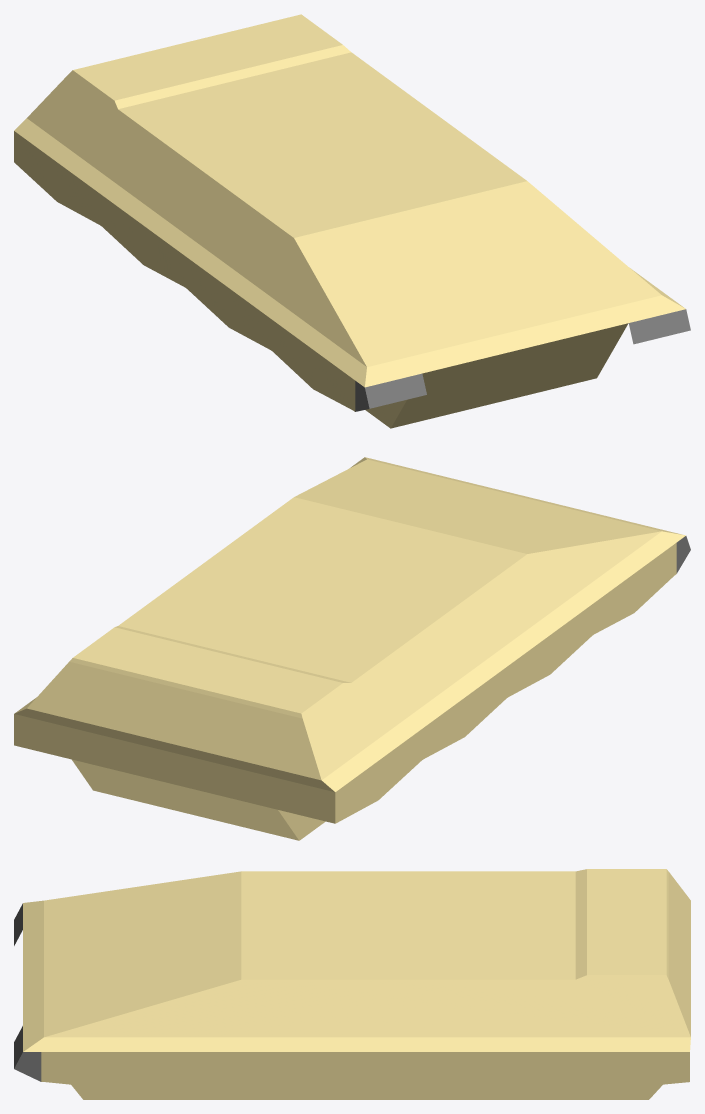
3 views of the same model, one above another, from view 1: azimuth 30°, elevation 25°; view 2: azimuth 150°, elevation 25°; view 3: azimuth 270°, elevation 25° (orthographic). The views are drawn at different scales.
Visible parts, largest first — view 1: base; view 2: base; view 3: base.
Boxes of the visible parts, box(x1,y1,x2,y2) form: base: box(14, 14, 690, 428); base: box(14, 457, 690, 840); base: box(14, 869, 690, 1099).
Size of the model in its own units: 3.73 by 1.52 by 7.17.
